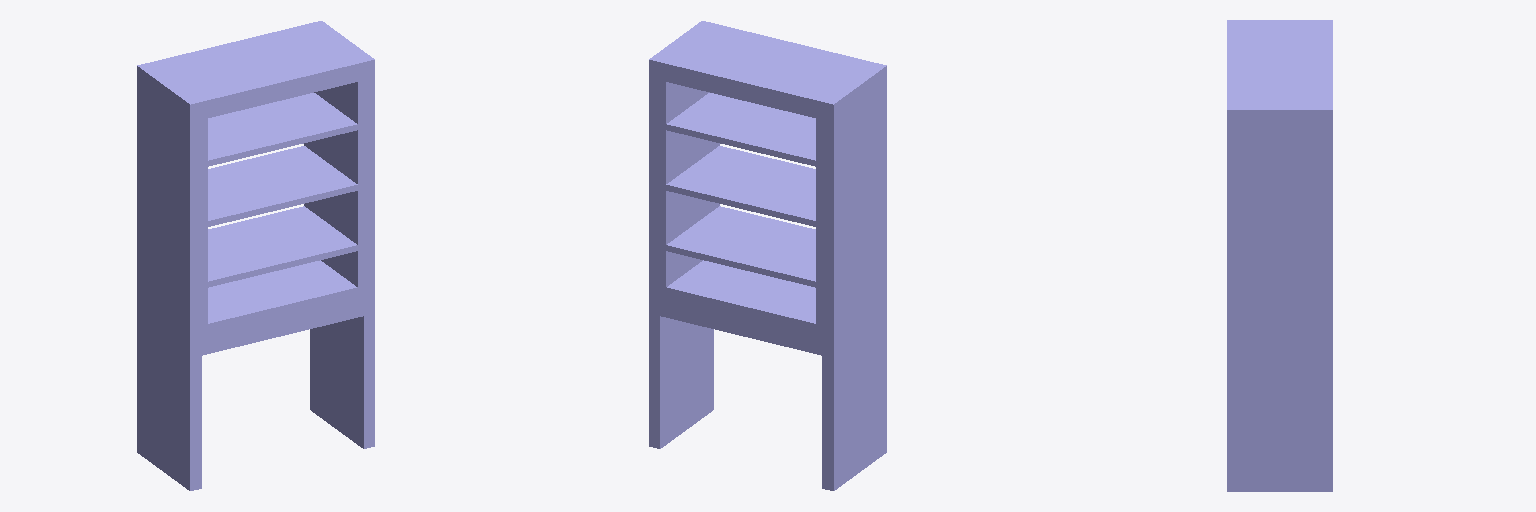
URDF robot description (cabinet):
<?xml version="1.0" encoding="utf-8"?>
<!-- This URDF was automatically created by SolidWorks to URDF Exporter! Originally created by [author] ([email redacted]) 
     Commit Version: 1.6.0-4-g7f85cfe  Build Version: 1.6.7995.38578
     For more information, please see http://wiki.ros.org/sw_urdf_exporter -->
<robot
  name="cabinet">
  <link
    name="cabinet_base_link">
    <inertial>
      <origin
        xyz="-8.8818E-16 -1.7764E-15 0.94365"
        rpy="0 0 0" />
      <mass
        value="164.13" />
      <inertia
        ixx="19.113"
        ixy="-7.2499E-14"
        ixz="8.9519E-14"
        iyy="31.928"
        iyz="-1.7069E-14"
        izz="17.333" />
    </inertial>
    <visual>
      <origin
        xyz="0 0 0"
        rpy="0 0 0" />
      <geometry>
        <mesh
          filename="package://cabinet/meshes/cabinet_base_link.STL" />
      </geometry>
      <material
        name="">
        <color
          rgba="0.75294 0.75294 1 1" />
      </material>
    </visual>
    <collision>
      <origin
        xyz="0 0 0"
        rpy="0 0 0" />
      <geometry>
        <mesh
          filename="package://cabinet/meshes/cabinet_base_link.STL" />
      </geometry>
    </collision>
  </link>
</robot>

--- Render facts (derived) ---
Views: 3 orthographic renders of the robot side by side, from view 1: azimuth 30°, elevation 25°; view 2: azimuth 150°, elevation 25°; view 3: azimuth 270°, elevation 25°.
Robot: cabinet — 1 links, 0 joints (none); root link cabinet_base_link; default pose: every joint at zero.
Links seen in each view (by area): view 1: cabinet_base_link; view 2: cabinet_base_link; view 3: cabinet_base_link.
Boxes of the visible links, bbox=[...] form: cabinet_base_link: bbox=[137, 21, 374, 490]; cabinet_base_link: bbox=[649, 21, 886, 490]; cabinet_base_link: bbox=[1227, 20, 1332, 491].
Bounding box of the posed robot: 0.8128 × 0.4064 × 1.63 m (x, y, z).
Meshes: 1 distinct files referenced, 1 mesh visuals loaded (1 binary STL).